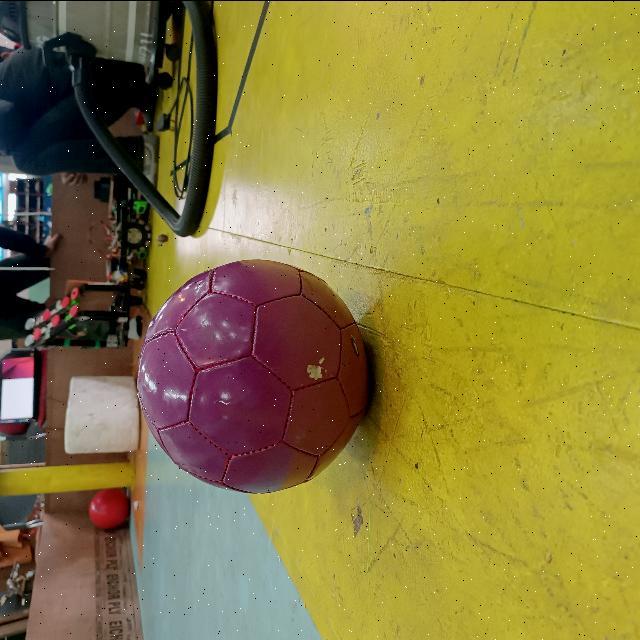P: (132, 256, 374, 498)
R: (86, 486, 132, 530)
